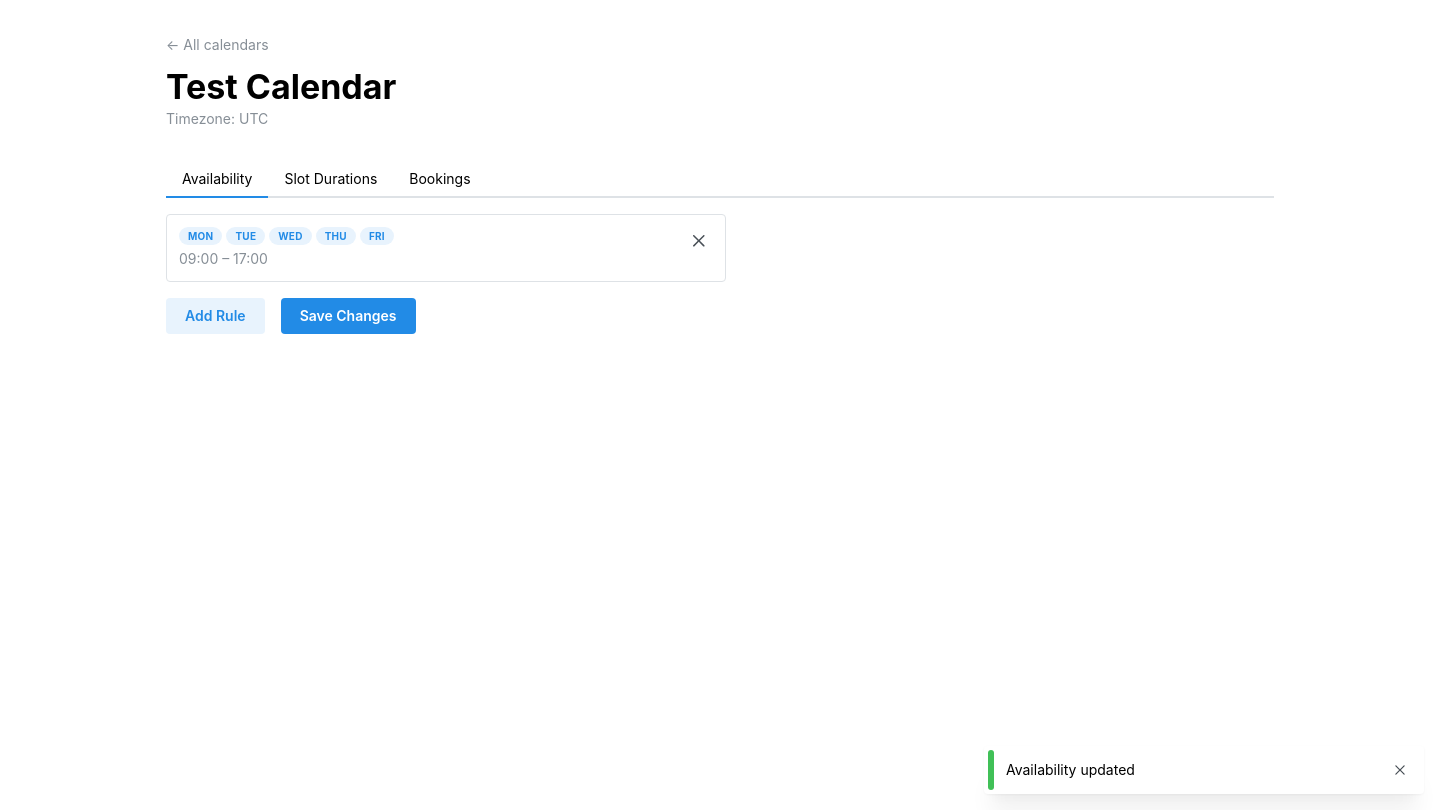
Scenario: ManagePage › Slot Durations tab › lists current slot durations
Expected: the heading "Test Calendar" is shown, [166,66,396,107]
Step 1. Click the tab "Slot Durations" → click(331, 180), box [268,162,393,198]
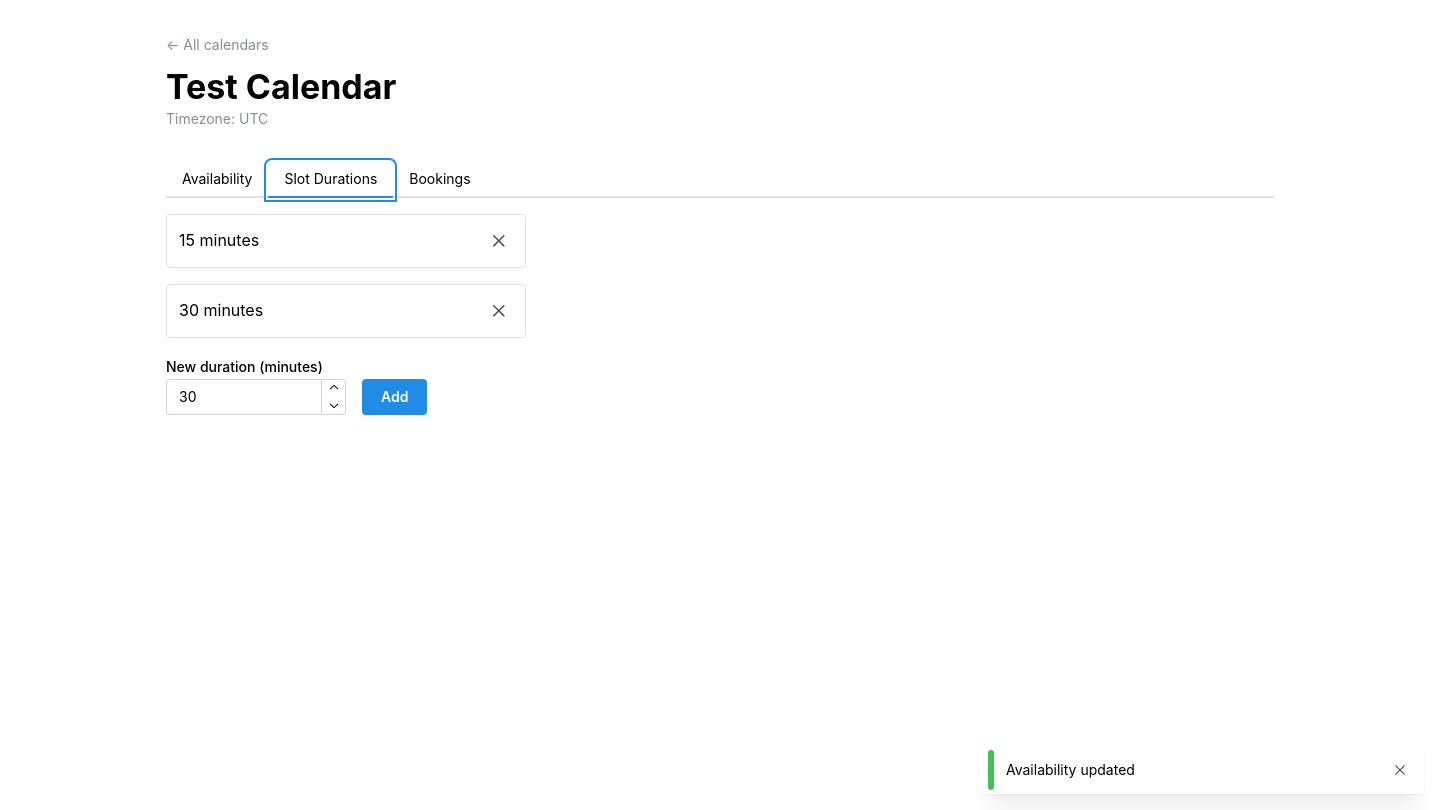
Result: the text "15 minutes" is shown at [179,228,259,253]
Result: the text "30 minutes" is shown at [179,298,263,323]
